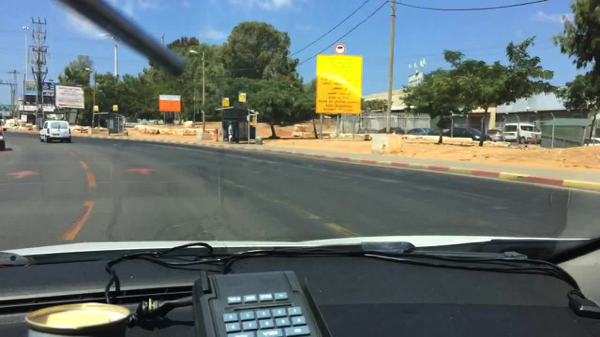car: (504, 122, 542, 143), (447, 126, 490, 143), (39, 121, 71, 143), (405, 128, 431, 137), (380, 127, 405, 136), (488, 128, 502, 141), (0, 128, 6, 151), (430, 128, 446, 136)
person: (226, 119, 234, 145)
traffic sign: (57, 85, 86, 109), (159, 95, 180, 111), (334, 43, 346, 53), (221, 97, 229, 107), (239, 91, 245, 103), (112, 104, 120, 113), (93, 107, 100, 111)
